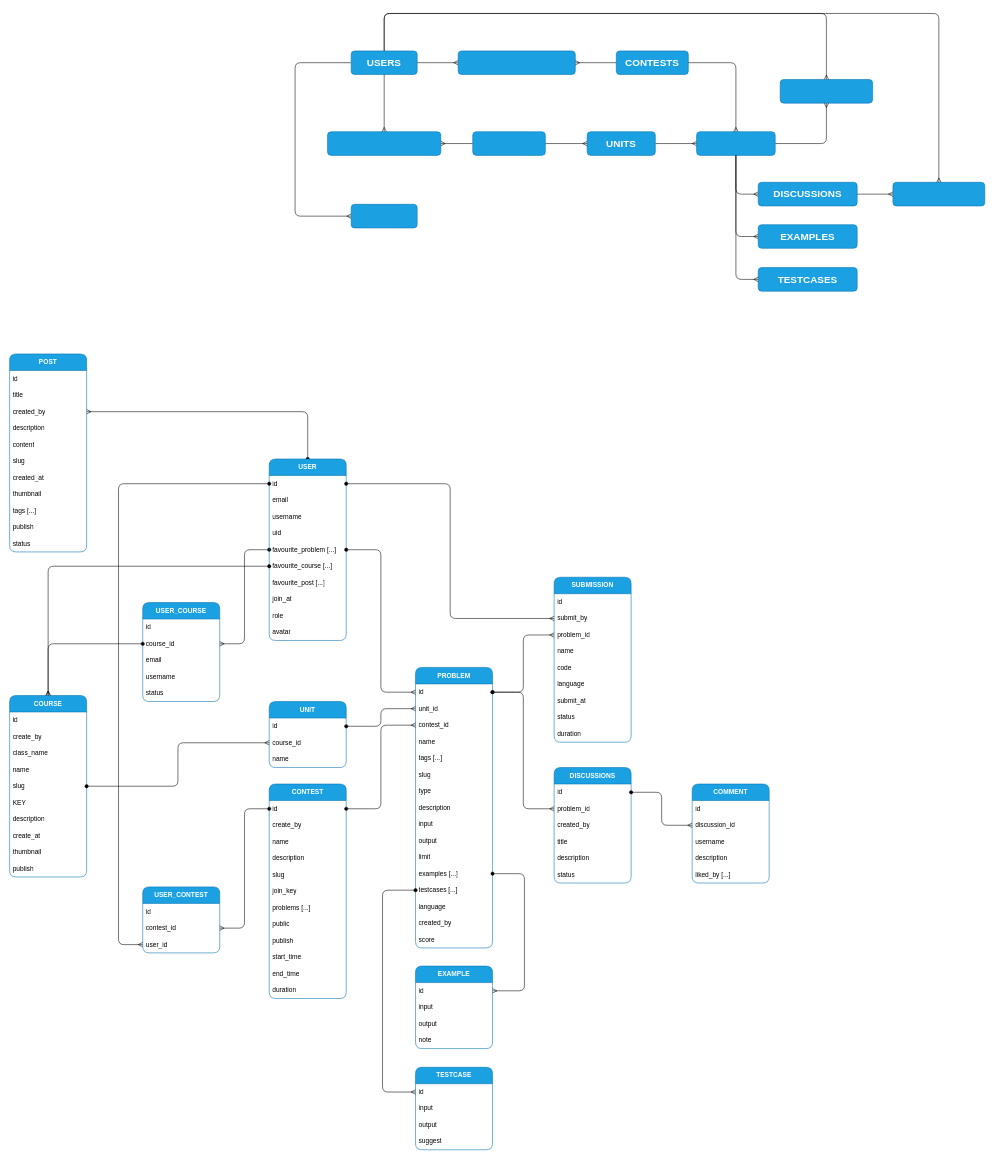
Some shapes in this 994 by 1159 pixel diagram are drawn without their labels. The centre of each missing label's shape, as x and y in pixels:
COMMENTS: point (938, 194)
COURSES: point (508, 143)
POSTS: point (384, 216)
PROBLEMS: point (735, 143)
SUBMISSIONS: point (826, 91)
USERS_CONTESTS: point (516, 62)
USERS_COURSES: point (384, 143)
